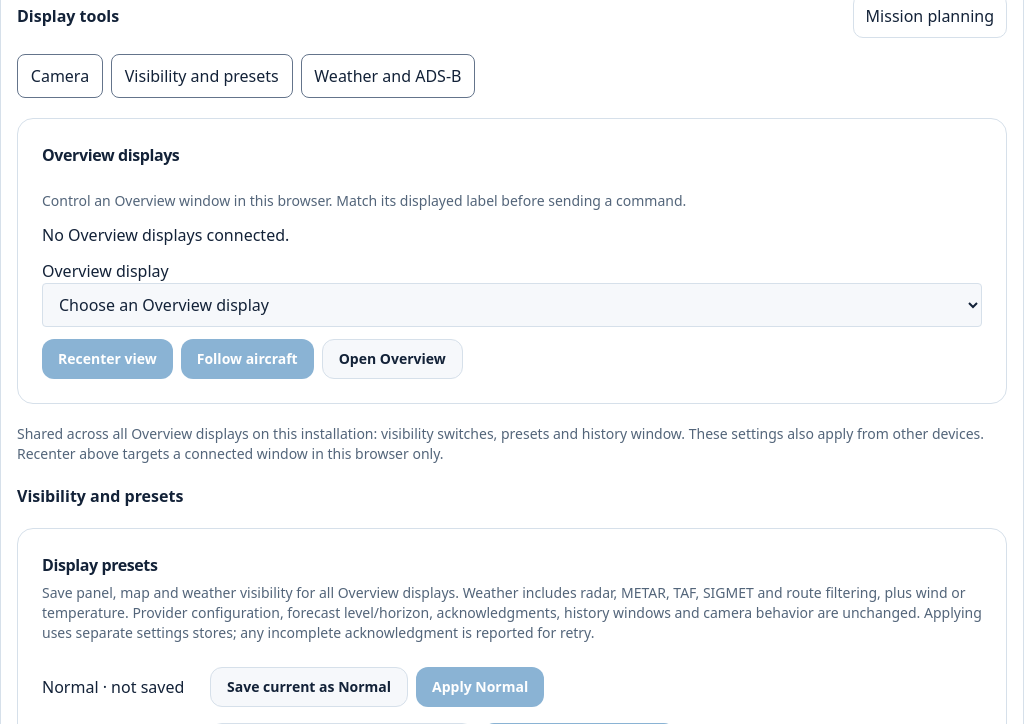
Test case: saves a bundle without applying it, then restores its confirmed switches
Step 1. Click the button "Save current as Normal" → {"x": 309, "y": 687}, box [210,667,408,707]
(page scrolled)
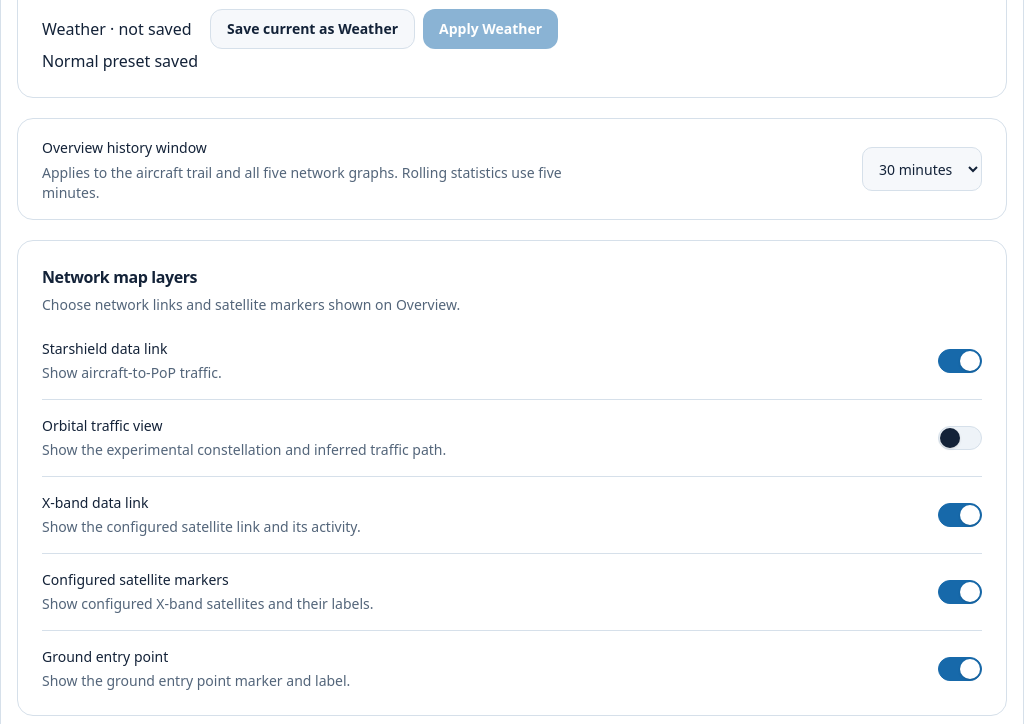
Result: the text "Normal preset saved" is shown at [42,50,198,72]
Step 2. Click the switch labelled "Starshield data link" → {"x": 105, "y": 348}, box [42,339,982,383]
(page scrolled)
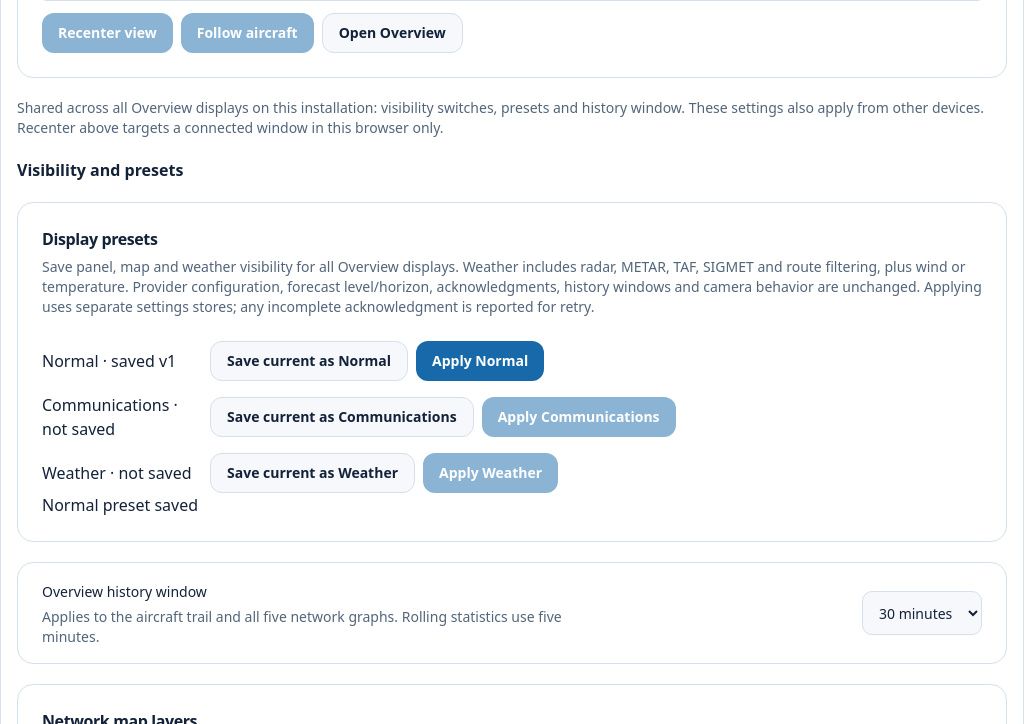
Step 3. Click the button "Apply Normal" → {"x": 480, "y": 361}, box [416,341,544,381]
(page scrolled)
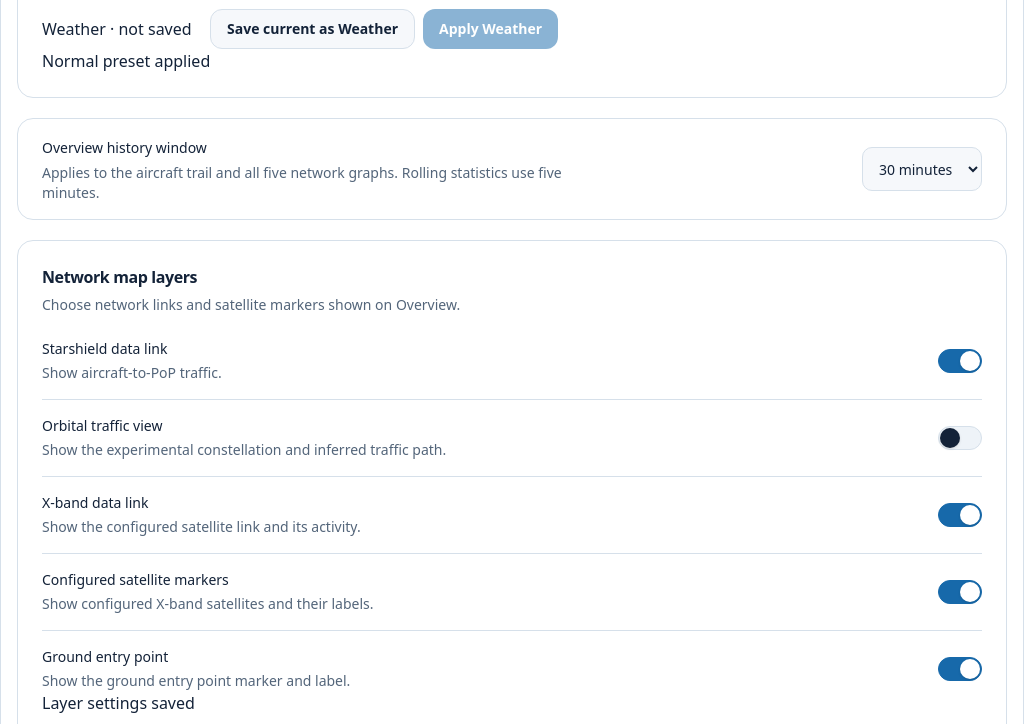
Result: the switch labelled "Starshield data link" is checked at [42,339,982,383]
Result: the text "Normal preset applied" is shown at [42,50,210,72]
